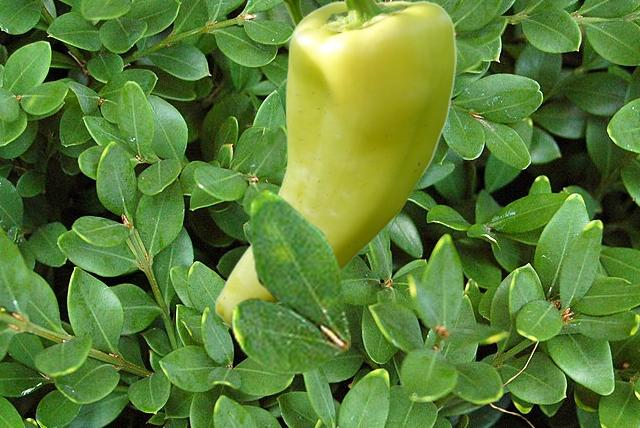green_chili: (214, 0, 456, 327)
